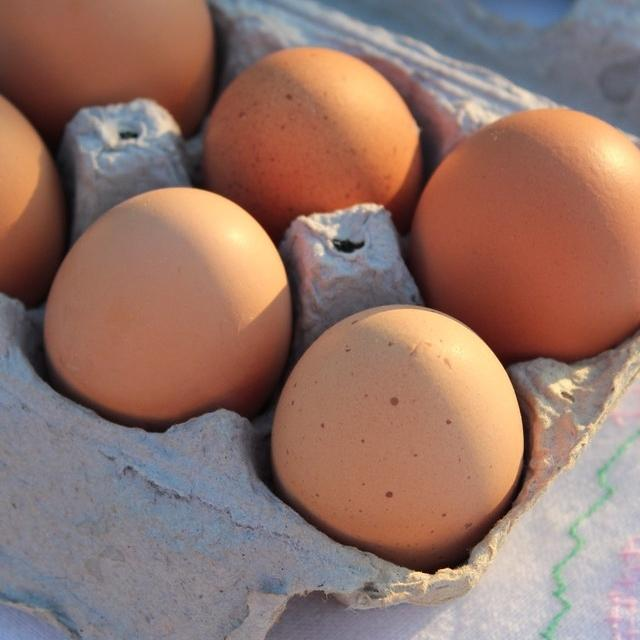egg: (270, 303, 525, 572), (42, 185, 293, 426), (409, 105, 640, 361), (201, 44, 423, 240), (0, 0, 215, 139), (0, 66, 65, 311)
